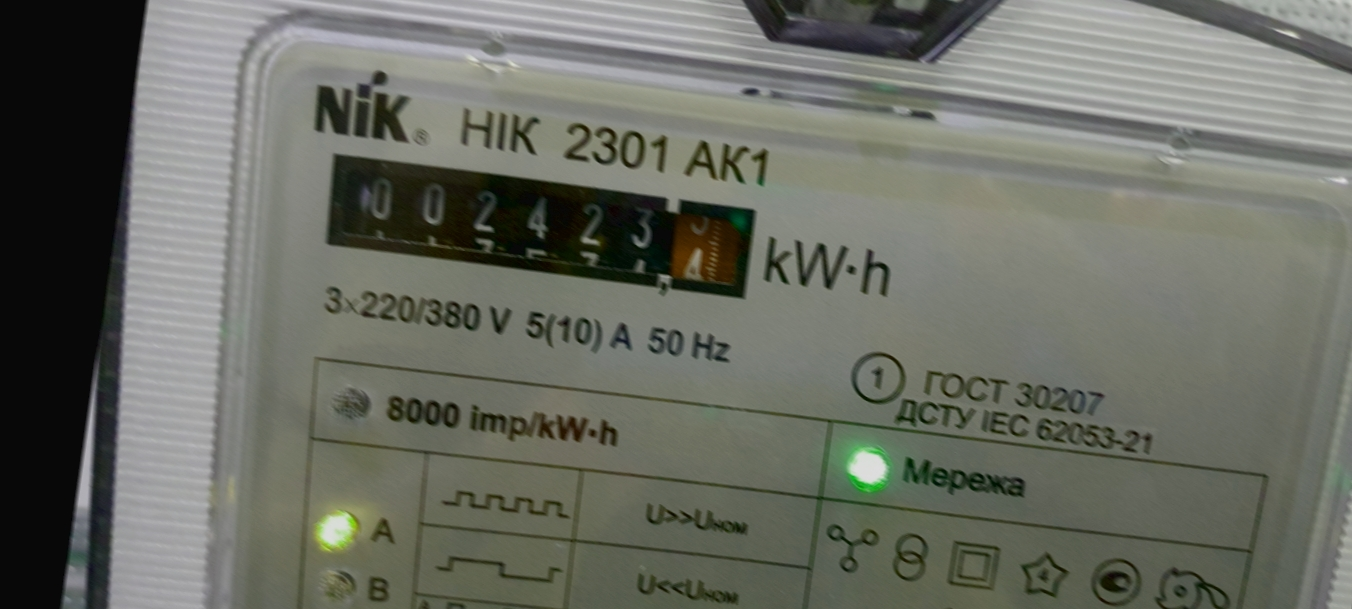0: (366, 171, 399, 222), (419, 179, 450, 227)
2: (470, 184, 502, 234), (577, 199, 607, 247)
3: (628, 203, 658, 250), (688, 211, 712, 236)
4: (524, 192, 553, 240), (680, 241, 710, 282)
screen: (310, 136, 772, 316)
